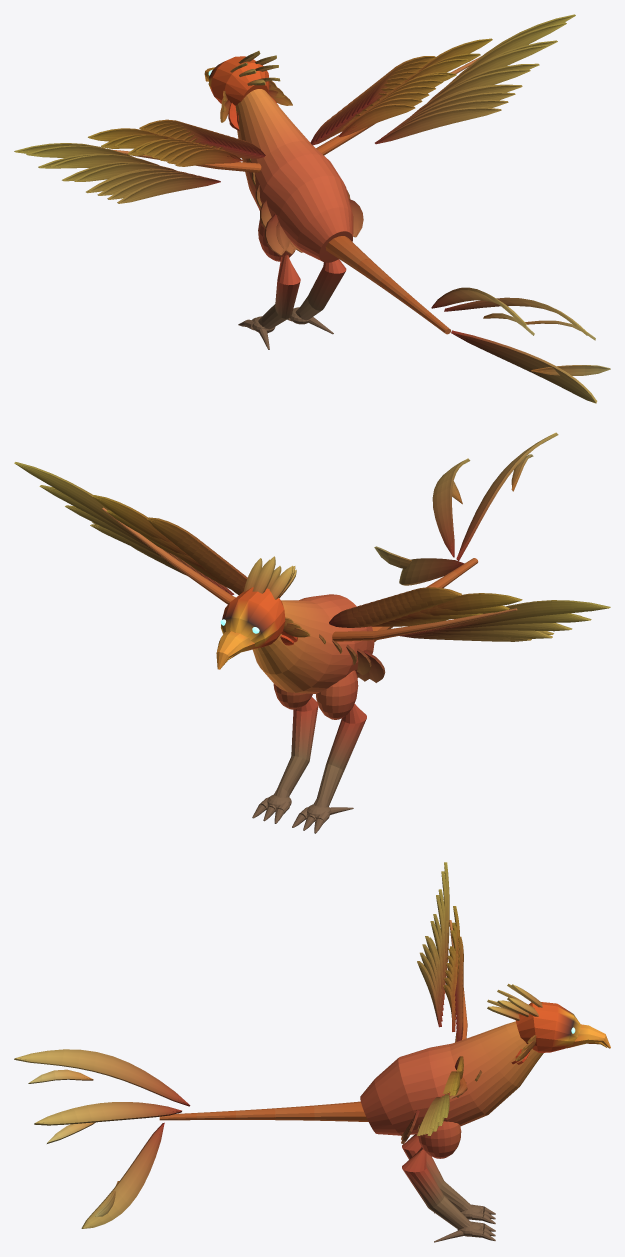
The model's file is skyknit-phoenix.glb.
3 views of the same model, one above another, from view 1: azimuth 30°, elevation 25°; view 2: azimuth 150°, elevation 25°; view 3: azimuth 270°, elevation 25° (orthographic). The views are drawn at different scales.
Parts seen in each view (by area): view 1: Phoenix_BodyLoft, Phoenix_Wing_R, Phoenix_Wing_L, Phoenix_TailPlumes_5, Phoenix_AvianHeadBeak, Phoenix_ChestFeathers, Phoenix_CrownCheekFeathers, Phoenix_TailPlumes_1; view 2: Phoenix_BodyLoft, Phoenix_Wing_L, Phoenix_Wing_R, Phoenix_TailPlumes_5, Phoenix_AvianHeadBeak, Phoenix_CrownCheekFeathers, Phoenix_ChestFeathers; view 3: Phoenix_BodyLoft, Phoenix_TailPlumes_5, Phoenix_Wing_L, Phoenix_AvianHeadBeak, Phoenix_Wing_R, Phoenix_CrownCheekFeathers, Phoenix_TailPlumes_1, Phoenix_TailPlumes_2.
Boxes of the visible parts, <box> form: Phoenix_BodyLoft: <box>235,89,353,349</box>; Phoenix_Wing_R: <box>310,14,575,155</box>; Phoenix_Wing_L: <box>14,119,265,203</box>; Phoenix_TailPlumes_5: <box>424,287,610,403</box>; Phoenix_AvianHeadBeak: <box>204,56,278,130</box>; Phoenix_ChestFeathers: <box>249,158,363,255</box>; Phoenix_CrownCheekFeathers: <box>220,51,292,122</box>; Phoenix_TailPlumes_1: <box>325,236,371,270</box>; Phoenix_BodyLoft: <box>252,594,374,833</box>; Phoenix_Wing_L: <box>329,587,610,641</box>; Phoenix_Wing_R: <box>14,462,247,604</box>; Phoenix_TailPlumes_5: <box>374,432,558,585</box>; Phoenix_AvianHeadBeak: <box>216,587,297,669</box>; Phoenix_CrownCheekFeathers: <box>243,556,310,637</box>; Phoenix_ChestFeathers: <box>319,634,385,682</box>; Phoenix_BodyLoft: <box>360,1021,543,1242</box>; Phoenix_TailPlumes_5: <box>14,1049,196,1228</box>; Phoenix_Wing_L: <box>417,862,467,1042</box>; Phoenix_AvianHeadBeak: <box>511,1002,610,1064</box>; Phoenix_Wing_R: <box>417,1056,467,1135</box>; Phoenix_CrownCheekFeathers: <box>487,983,542,1061</box>; Phoenix_TailPlumes_1: <box>314,1101,368,1121</box>; Phoenix_TailPlumes_2: <box>275,1105,314,1120</box>.
Size of the model in its own units: 12.02 by 5.35 by 11.87.
